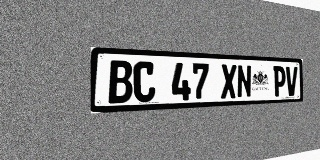4: (172, 62, 191, 101)
7: (191, 63, 209, 100)
B: (108, 60, 132, 104)
C: (133, 61, 155, 102)
N: (237, 65, 251, 98)
P: (273, 66, 285, 97)
V: (286, 66, 297, 96)
X: (221, 64, 236, 99)
